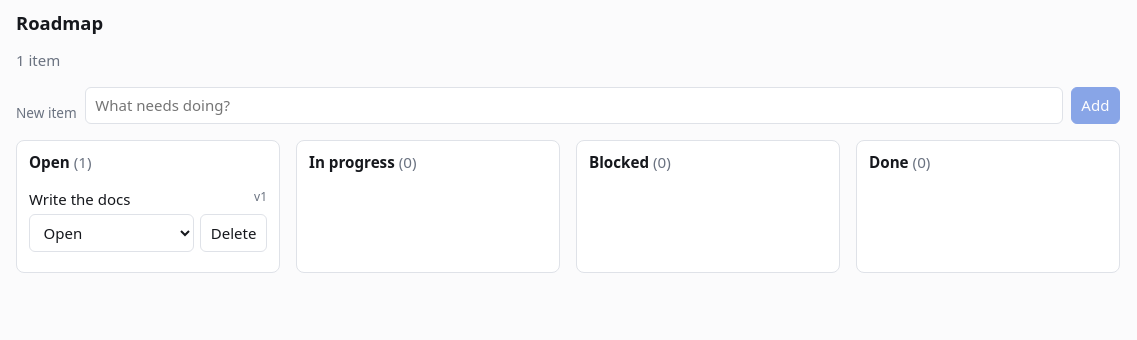
Test: BoardView › reports an ordinary failure without reloading
The width and height of the screenshot is (1137, 340).
Expected: the text "Write the docs" is shown, [29, 189, 130, 209]
Select "Blocked" in the dropdown named "Status for Write the docs" at [111, 233], box [29, 214, 194, 252]
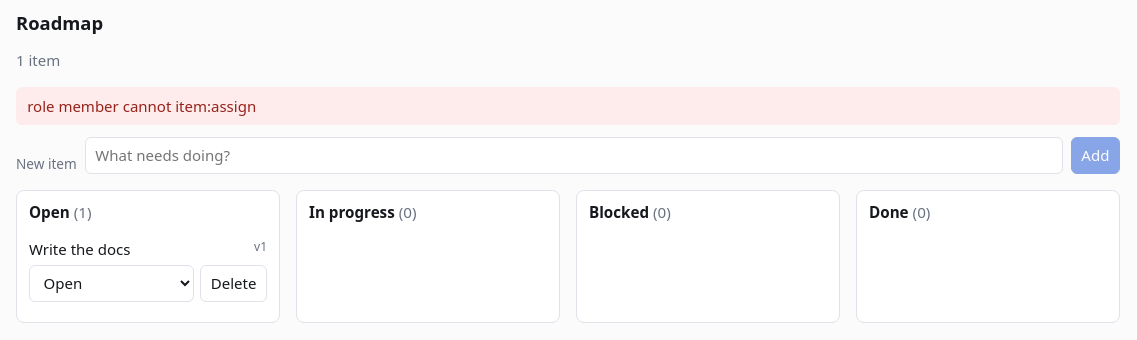
Expected: the message shows "cannot item:assign", [27, 96, 256, 116]
